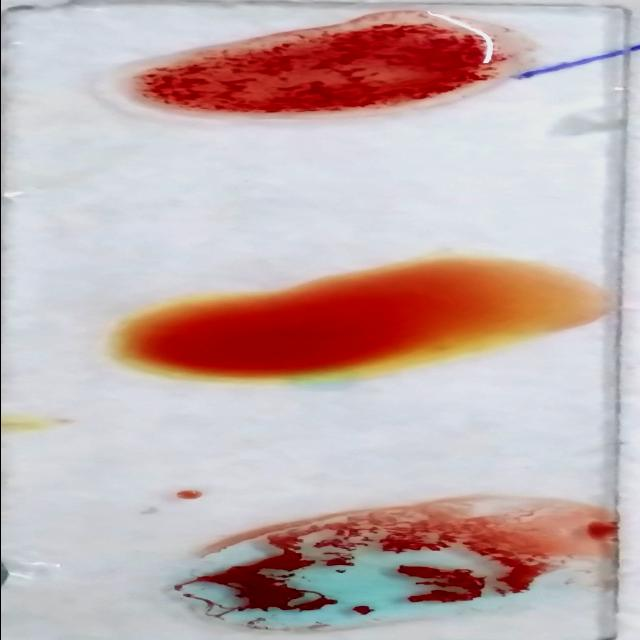A: (164, 493, 606, 631)
D: (126, 15, 502, 118)
